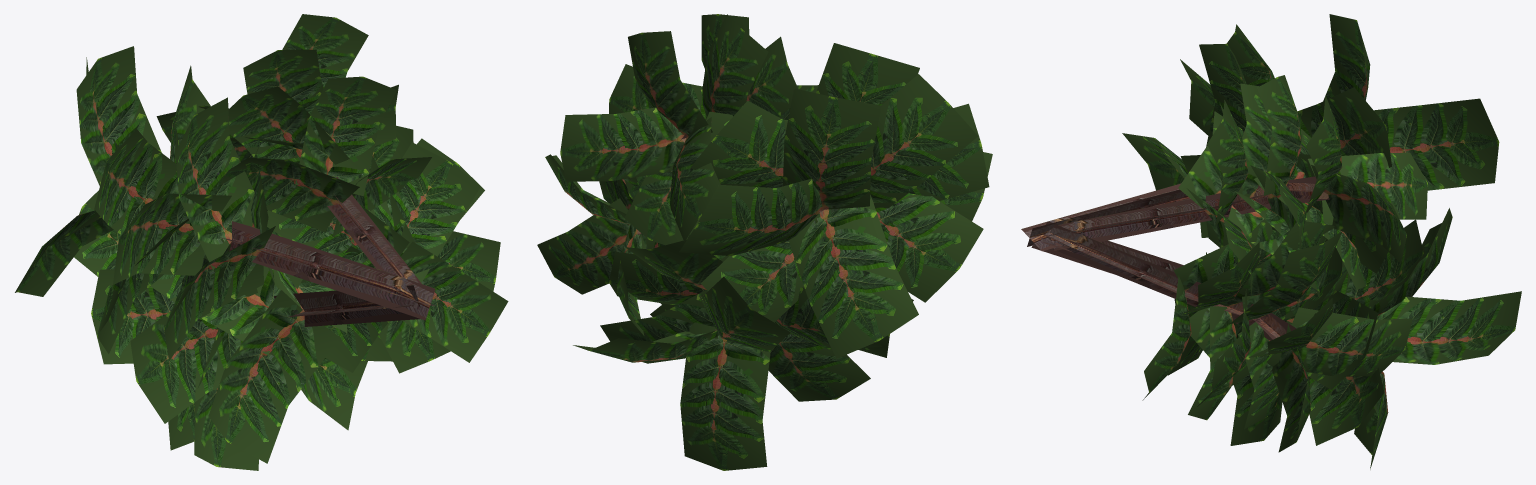
Rendered from Bush3.fbx.
The picture shows the model from 3 angles, left to right: view 1: azimuth 30°, elevation 25°; view 2: azimuth 150°, elevation 25°; view 3: azimuth 270°, elevation 25°; orthographic projection. The views are drawn at different scales.
Visible parts, largest first — view 1: polySurface10; view 2: polySurface10; view 3: polySurface10.
Part boxes in pixels (box(x1,y1,x2,y2)): polySurface10: box(15, 14, 508, 470); polySurface10: box(537, 14, 992, 470); polySurface10: box(1021, 14, 1521, 469).
Bounding box in the file's own units: 26.96 × 25.5 × 29.14.
